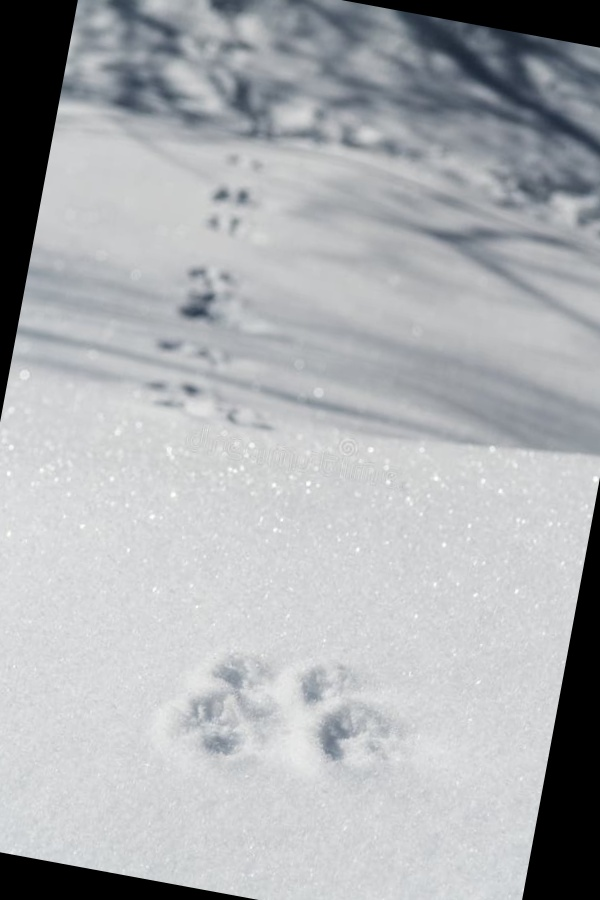rabbit: (143, 613, 441, 828)
